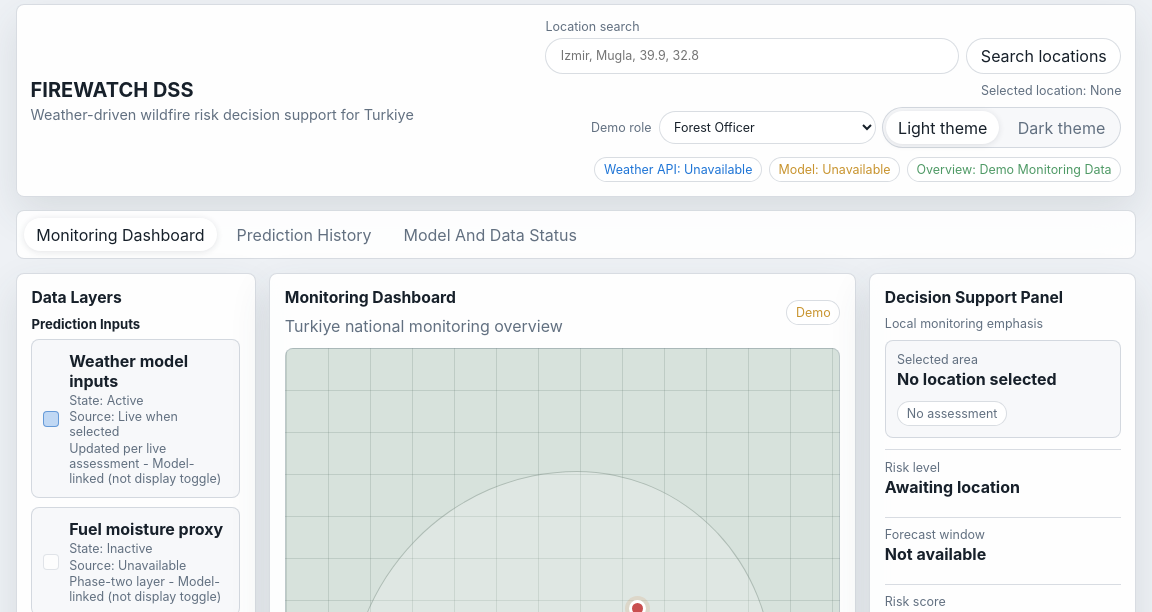
Scenario: FIREWATCH dashboard shell › creates a live assessment from a selected search result and displays backend decisions
Type "Ankara" into the search field labelled "Location search" at (752, 56), box [545,38,959,74]
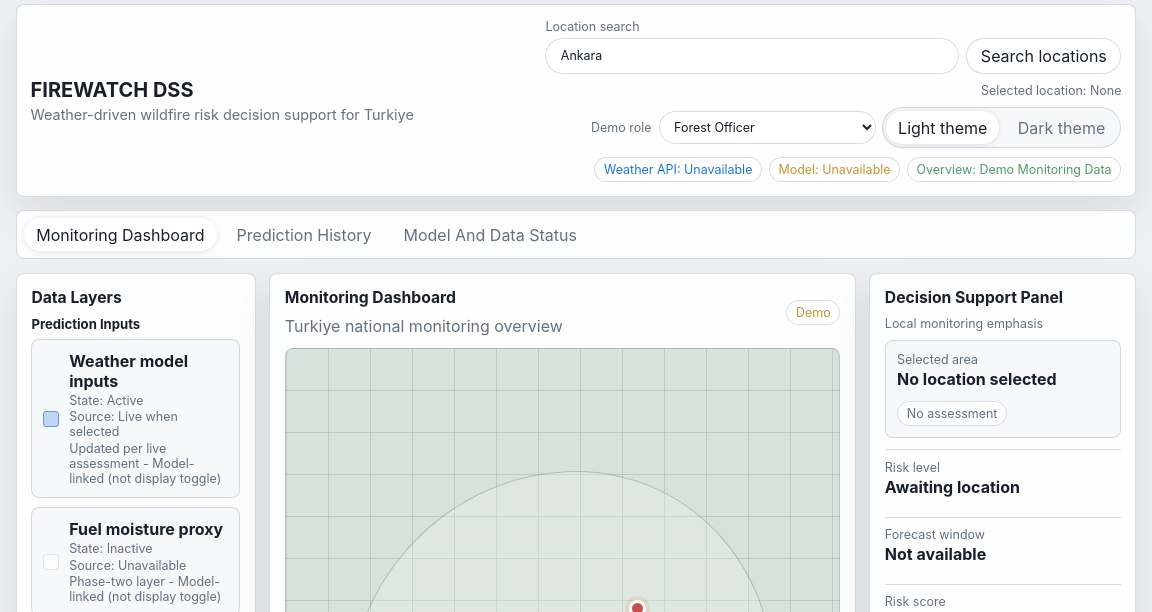
Click the button "Search locations" at (1044, 56), box [966,38,1121,74]
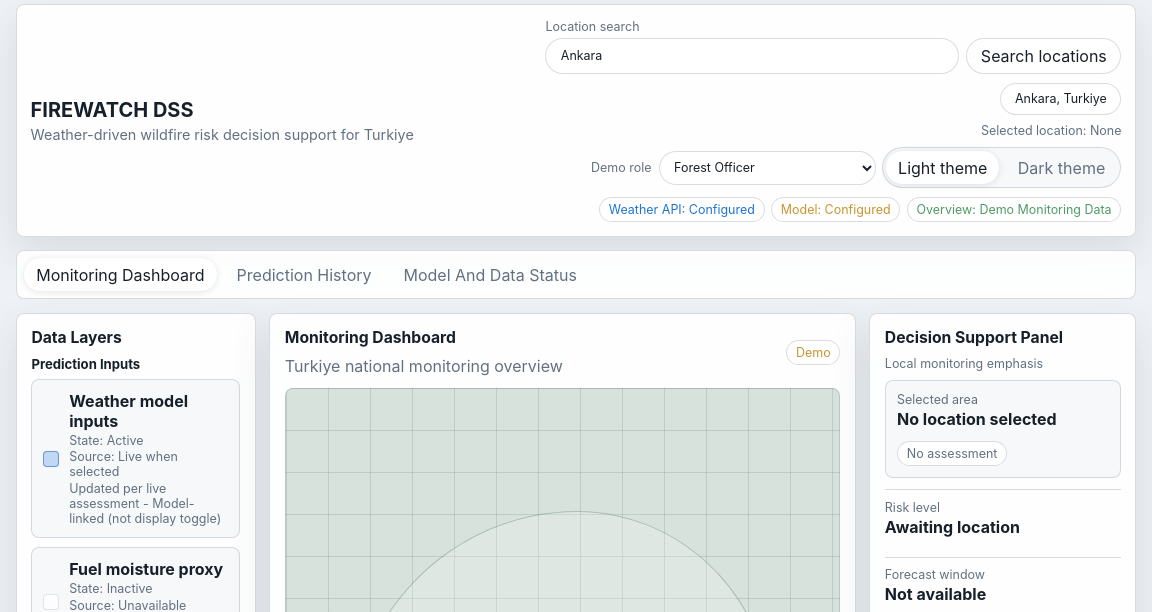
Click the button "Ankara, Turkiye" at (1061, 99), box [1000,83,1121,115]
(page scrolled)
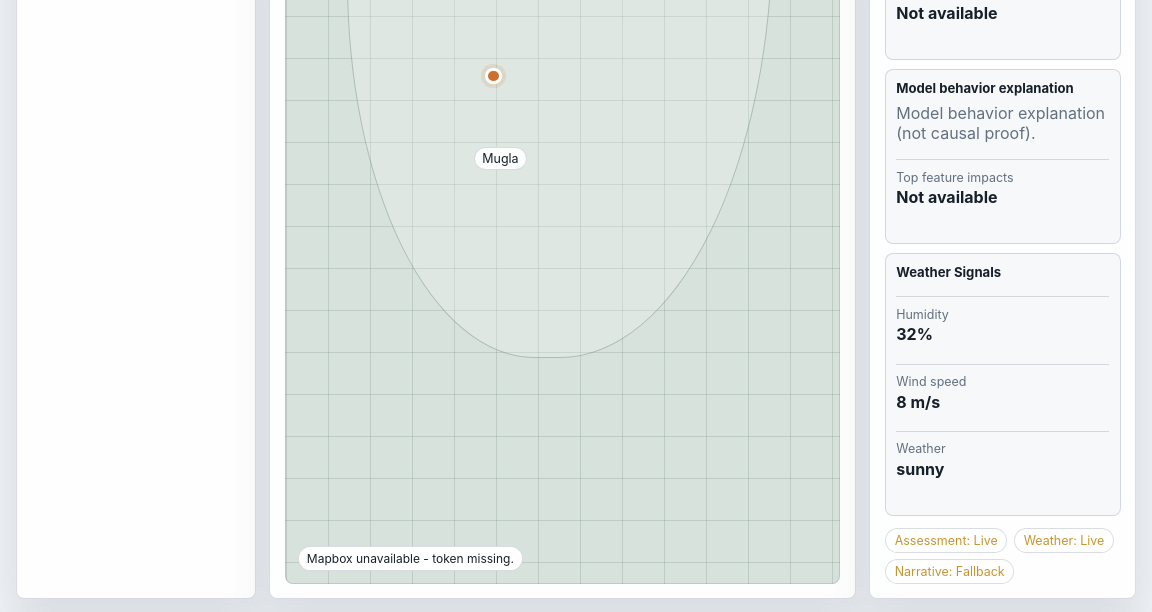
Now the text "Assessment: Live" is shown, box [885,528,1007,553]
Now the text "Weather: Live" is shown, box [1014,528,1114,553]
Now the text "Narrative: Fallback" is shown, box [885,559,1014,584]
